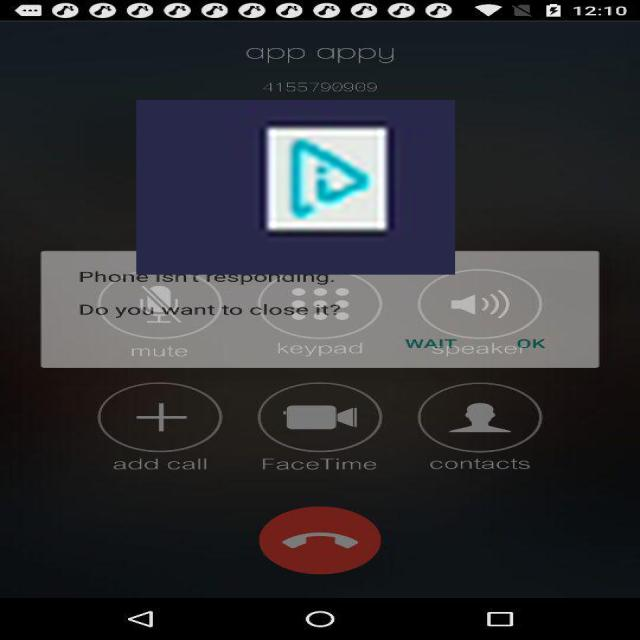sneaking: (136, 100, 455, 275)
